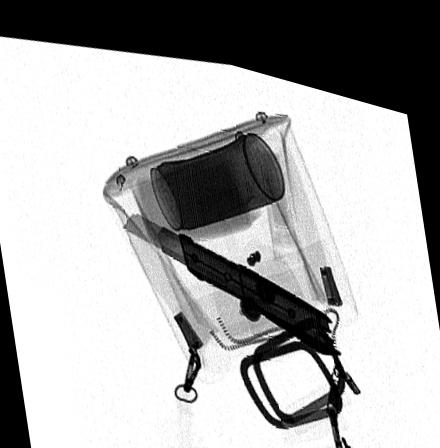Knife: (121, 204, 342, 338)
